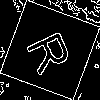R: (24, 24, 81, 77)
